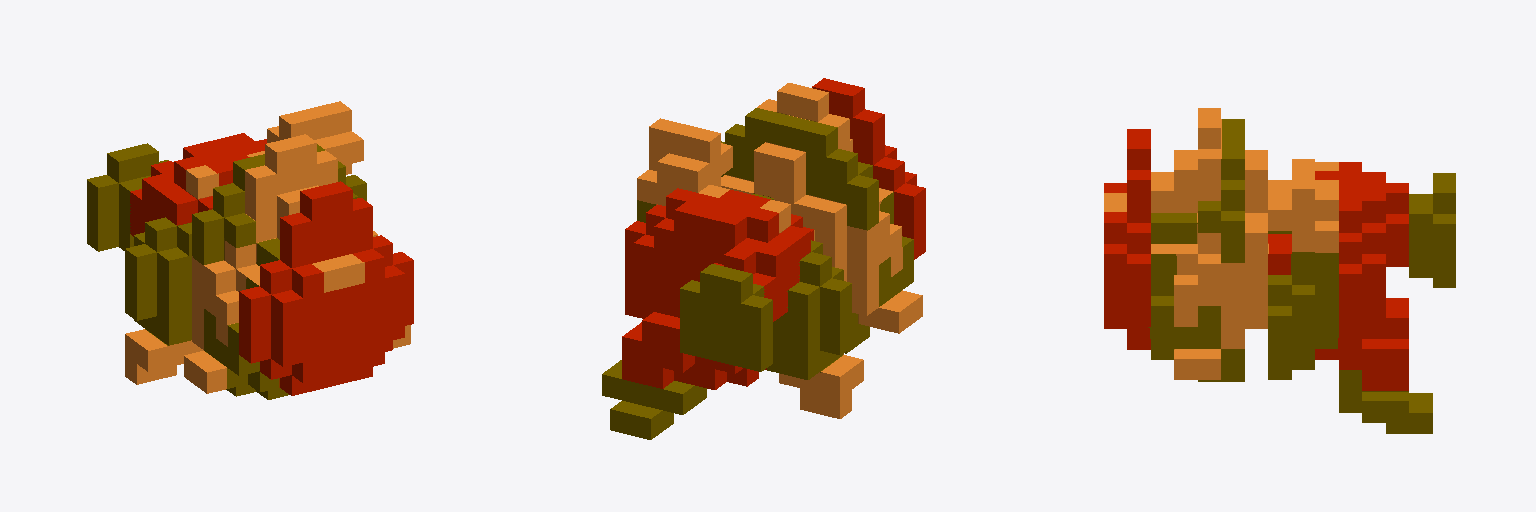
3 views of the same model, side by side, from view 1: azimuth 30°, elevation 25°; view 2: azimuth 150°, elevation 25°; view 3: azimuth 270°, elevation 25° (orthographic).
Parts seen in each view (by area): view 1: mario_walk2.001; view 2: mario_walk2.001; view 3: mario_walk2.001.
Boxes of the visible parts, x1,y1,x2,y2 form: mario_walk2.001: [87, 101, 413, 399]; mario_walk2.001: [602, 78, 925, 439]; mario_walk2.001: [1104, 108, 1455, 433].
Size of the model in its own units: 100 by 130 by 150.
Materials: 1 (1 with a texture image).